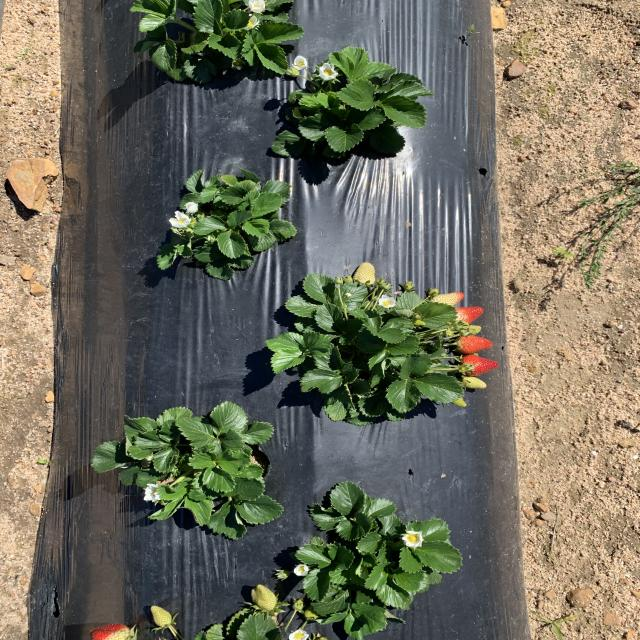unripe: (461, 356, 500, 376), (452, 335, 493, 353), (448, 306, 486, 324)
